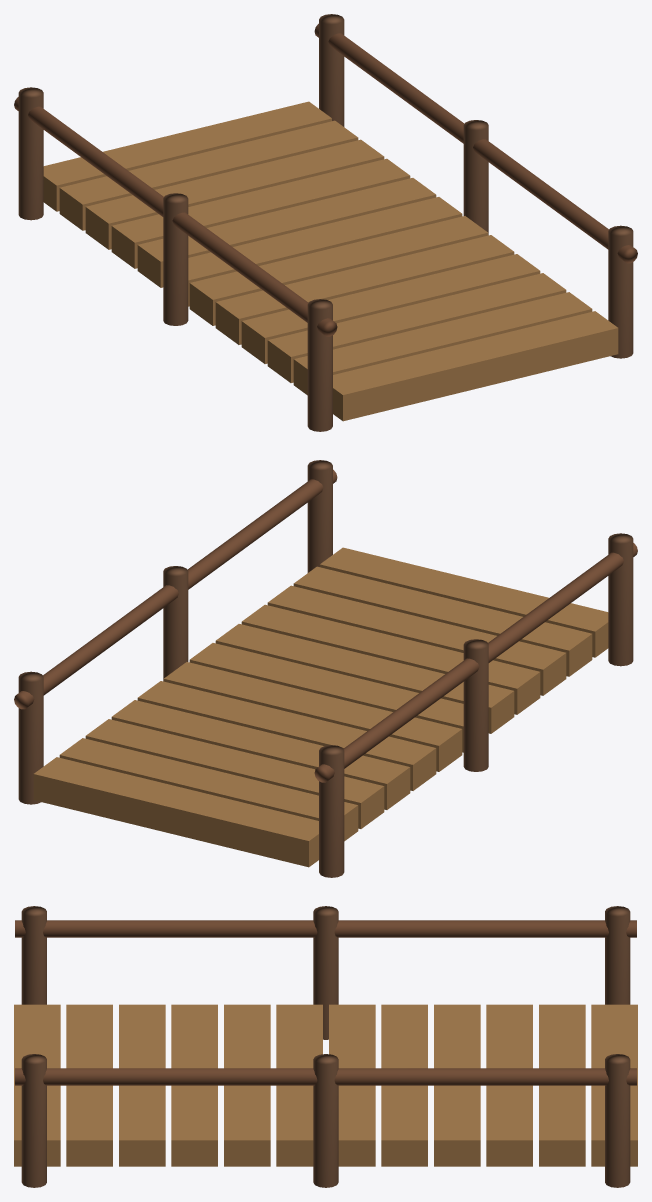
File: wood_bridge.glb
3 views of the same model, one above another, from view 1: azimuth 30°, elevation 25°; view 2: azimuth 150°, elevation 25°; view 3: azimuth 270°, elevation 25° (orthographic).
Parts seen in each view (by area): view 1: plank (×12), post (×6), rail (×2); view 2: plank (×12), post (×6), rail (×2); view 3: plank (×12), rail (×2), post (×6).
Boxes of the visible parts, x1,y1,x2,y2 form: plank (×12): (43, 101, 618, 421); post (×6): (18, 14, 633, 431); rail (×2): (14, 23, 637, 336); plank (×12): (33, 547, 608, 867); post (×6): (18, 460, 633, 877); rail (×2): (14, 469, 637, 782); plank (×12): (14, 1004, 637, 1166); rail (×2): (15, 920, 636, 1085); post (×6): (21, 906, 630, 1187).
Bounding box in the file's own units: 1.93 × 0.7 × 3.21.
